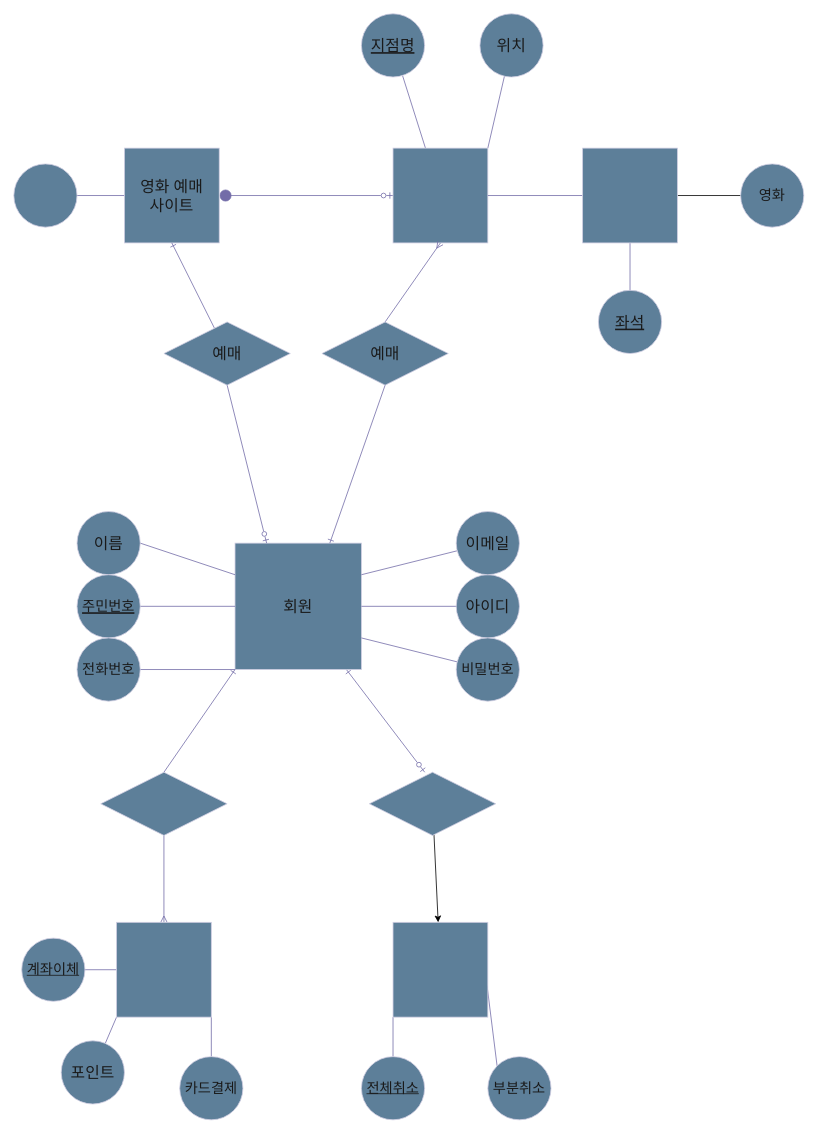
Image size: 818x1134. Some labels were removed from this diagram. The shapes that lost their labels are listed below. From the top down, each one's centre as x and y in pixels, then its label:
At pixel 45 195: "회원 아이디".
At pixel 440 195: "극장".
At pixel 629 195: "상영관".
At pixel 163 803: "결제".
At pixel 432 803: "취소".
At pixel 163 969: "결제방법".
At pixel 440 969: "결제취소".
